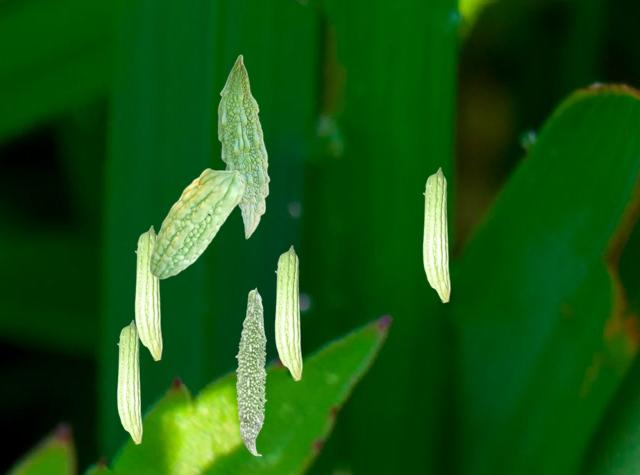ampalaya: (149, 167, 245, 279), (217, 54, 270, 239), (234, 287, 268, 456), (134, 225, 162, 361), (422, 167, 450, 303), (274, 245, 302, 381), (116, 319, 142, 444)
